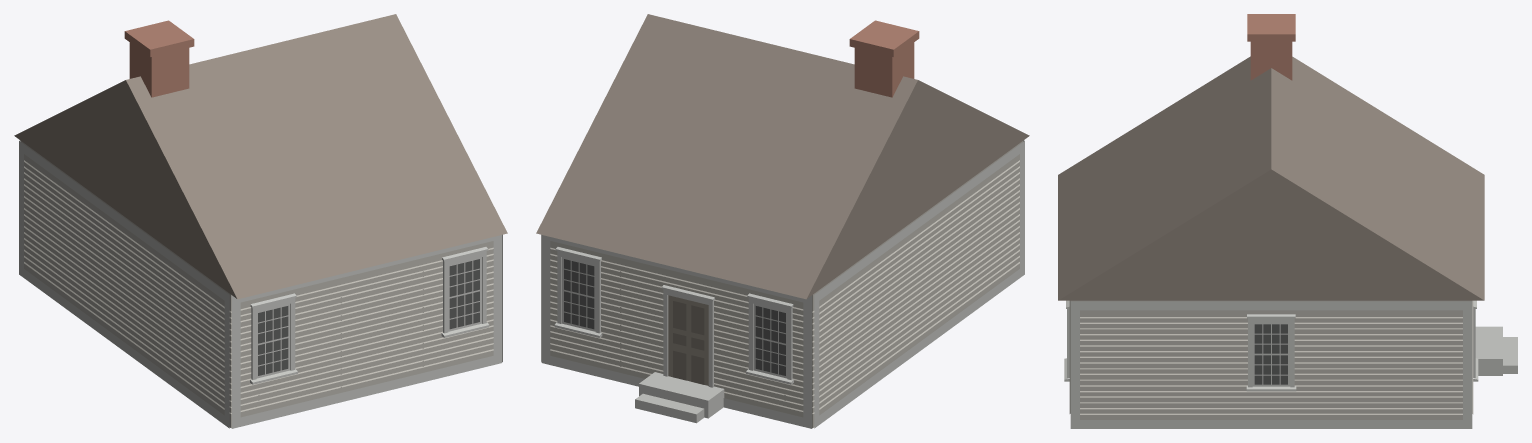
File: recon_1835_blk_washington_market_d4_11__inferred_1835.glb
3 views of the same model, side by side, from view 1: azimuth 30°, elevation 25°; view 2: azimuth 150°, elevation 25°; view 3: azimuth 270°, elevation 25° (orthographic). The views are drawn at different scales.
Parts seen in each view (by area): view 1: recon_1835_blk_washington_market_d4_11__inferred_1835; view 2: recon_1835_blk_washington_market_d4_11__inferred_1835; view 3: recon_1835_blk_washington_market_d4_11__inferred_1835.
Boxes of the visible parts, left/top/right/bottom form: recon_1835_blk_washington_market_d4_11__inferred_1835: left=14, top=14, right=507, bottom=428; recon_1835_blk_washington_market_d4_11__inferred_1835: left=536, top=14, right=1029, bottom=428; recon_1835_blk_washington_market_d4_11__inferred_1835: left=1058, top=14, right=1517, bottom=428.
Size of the model in its own units: 6.18 by 6.56 by 9.3.
